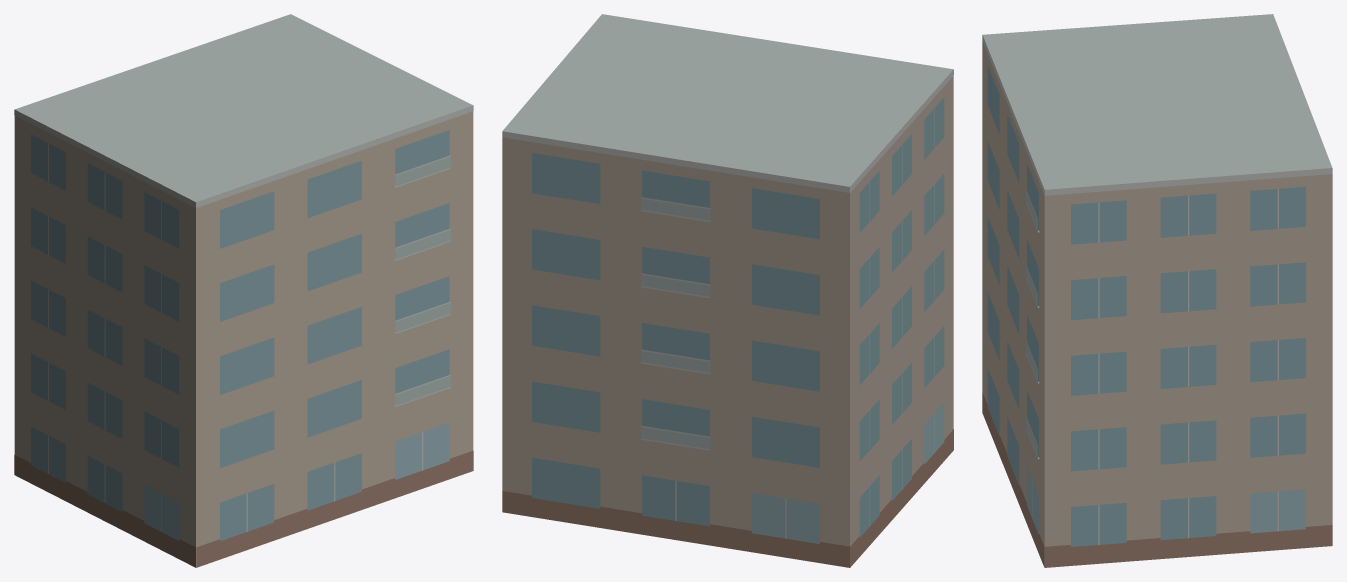
The model's file is survey-upis-32678206.glb.
The picture shows the model from 3 angles, left to right: view 1: azimuth 30°, elevation 25°; view 2: azimuth 150°, elevation 25°; view 3: azimuth 270°, elevation 25°; orthographic projection. The views are drawn at different scales.
Visible parts, largest first — view 1: survey-upis-32678206.tmp; view 2: survey-upis-32678206.tmp; view 3: survey-upis-32678206.tmp.
Part boxes in pixels (left/top/right/bottom): survey-upis-32678206.tmp: left=14, top=14, right=473, bottom=567; survey-upis-32678206.tmp: left=502, top=14, right=953, bottom=567; survey-upis-32678206.tmp: left=982, top=14, right=1332, bottom=567.
Bounding box in the file's own units: 15.22 × 15.25 × 12.81.
